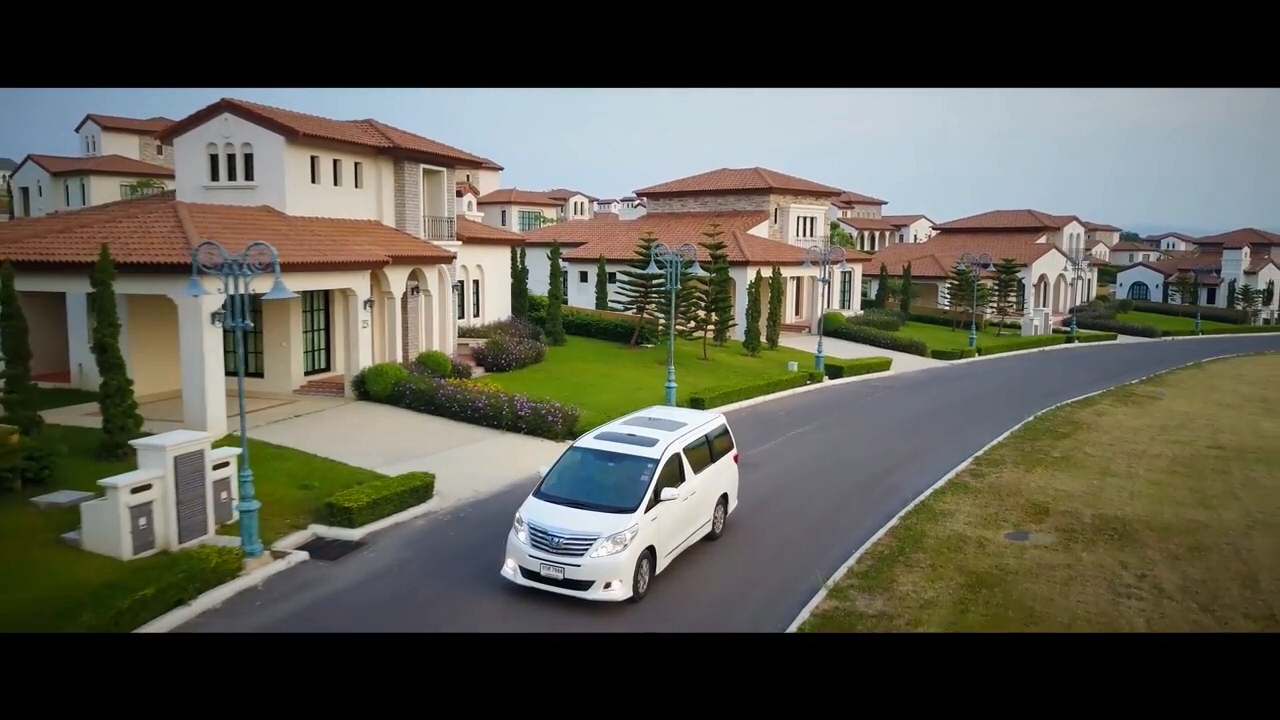araba: (500, 403, 743, 609)
